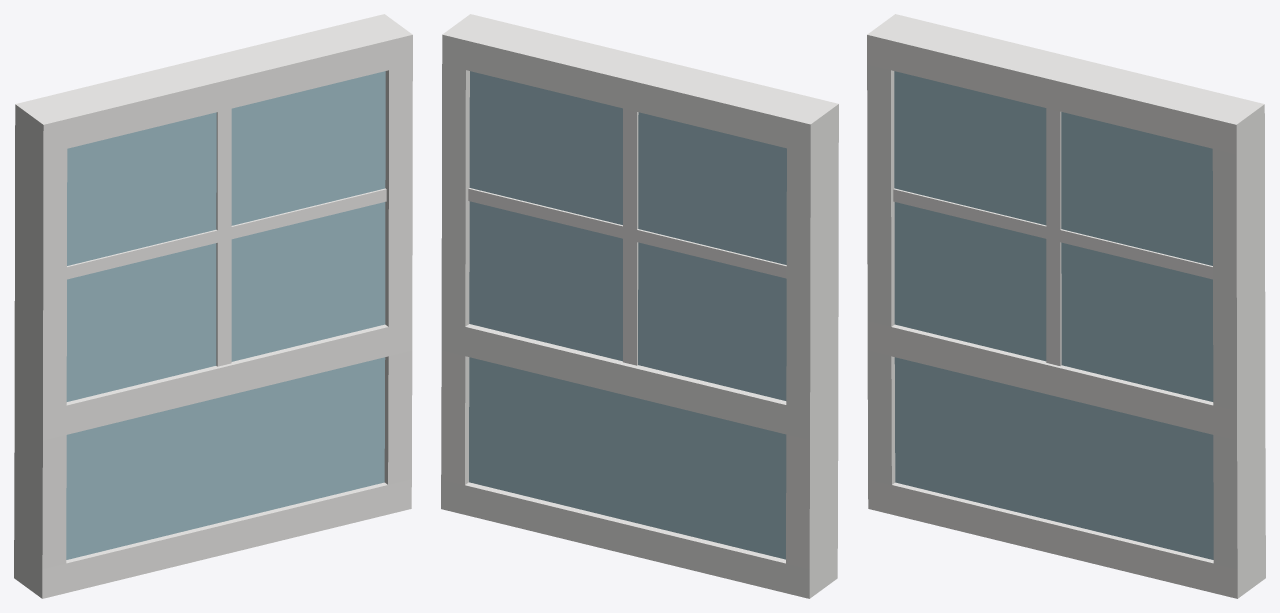
Rendered from Window_5.fbx.
3 views of the same model, side by side, from view 1: azimuth 30°, elevation 25°; view 2: azimuth 150°, elevation 25°; view 3: azimuth 330°, elevation 25° (orthographic).
Parts seen in each view (by area): view 1: Window_5; view 2: Window_5; view 3: Window_5.
Boxes of the visible parts, bbox=[...] form: Window_5: bbox=[14, 14, 412, 598]; Window_5: bbox=[441, 14, 838, 598]; Window_5: bbox=[867, 14, 1265, 598].
Bounding box in the file's own units: 139 × 19.23 × 171.
